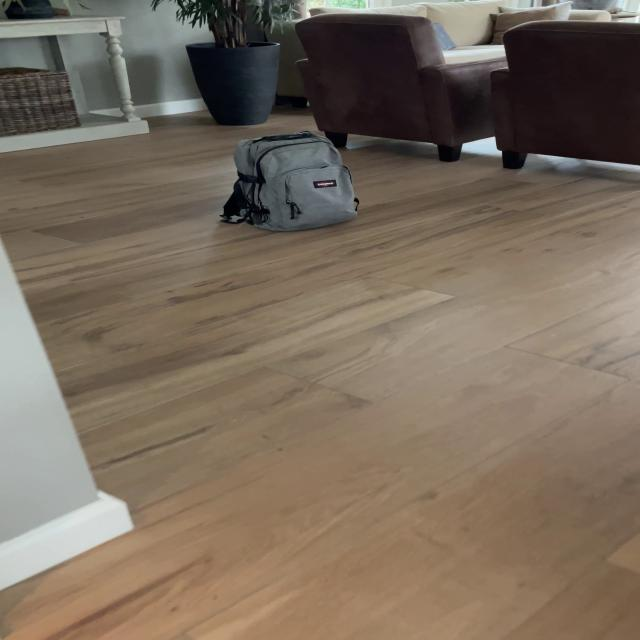backpack: (217, 126, 365, 235)
